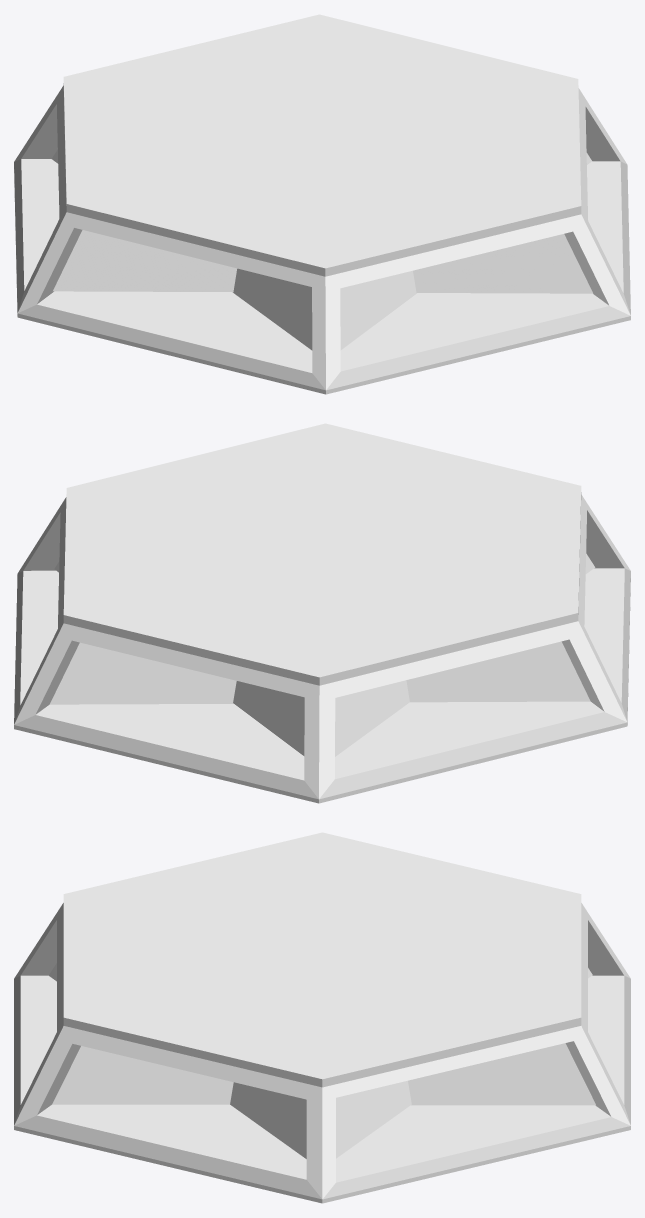
The model's file is Assembler3.fbx.
3 renders of one model, top to bottom at view 1: azimuth 30°, elevation 25°; view 2: azimuth 150°, elevation 25°; view 3: azimuth 270°, elevation 25°, orthographic.
Parts seen in each view (by area): view 1: Assembler3; view 2: Assembler3; view 3: Assembler3.
Boxes of the visible parts, x1,y1,x2,y2 form: Assembler3: (14,14,630,394); Assembler3: (14,423,630,803); Assembler3: (14,832,630,1203).
Bounding box in the file's own units: 139 × 22.09 × 123.
